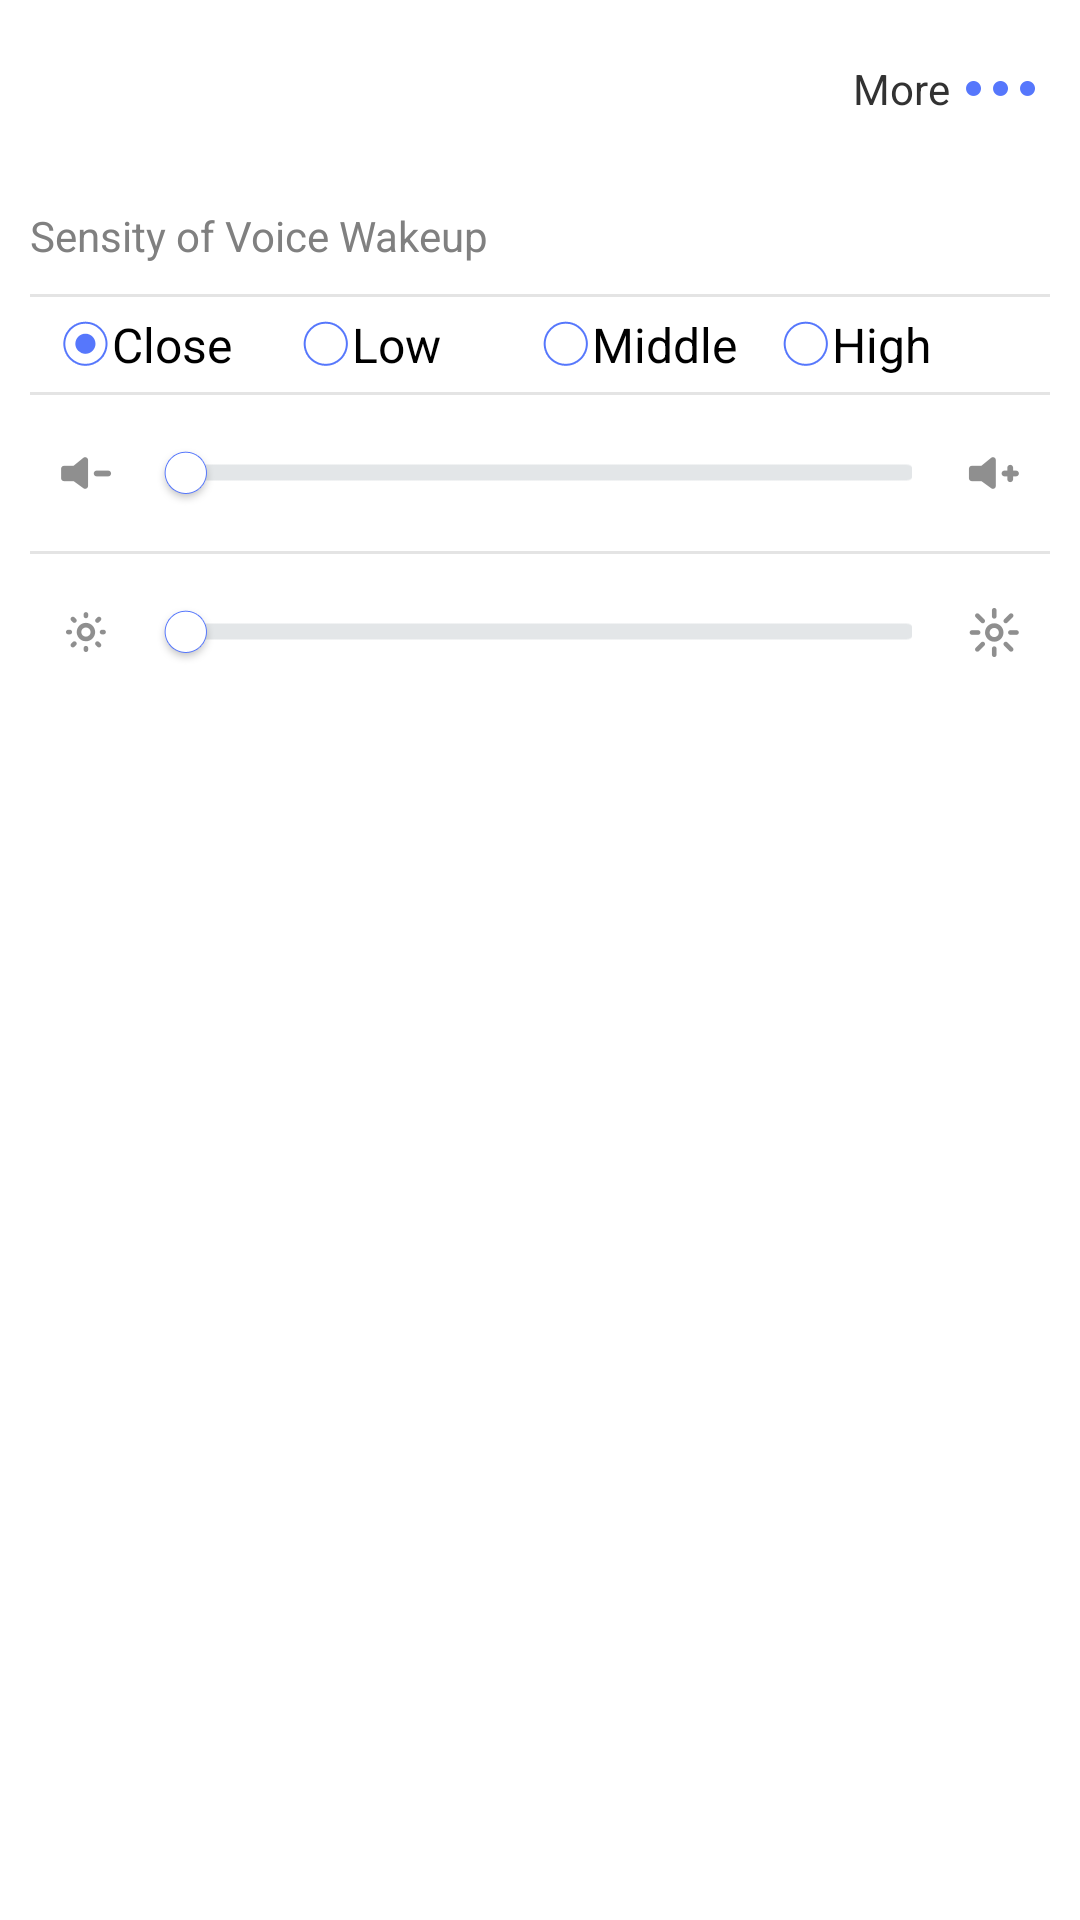

Point at icon controls on the screen. Image size 1080w x 1920h, points as [x,y].
brightness down: [86,632]
brightness up: [994,632]
volume down: [86,473]
volume up: [994,473]
